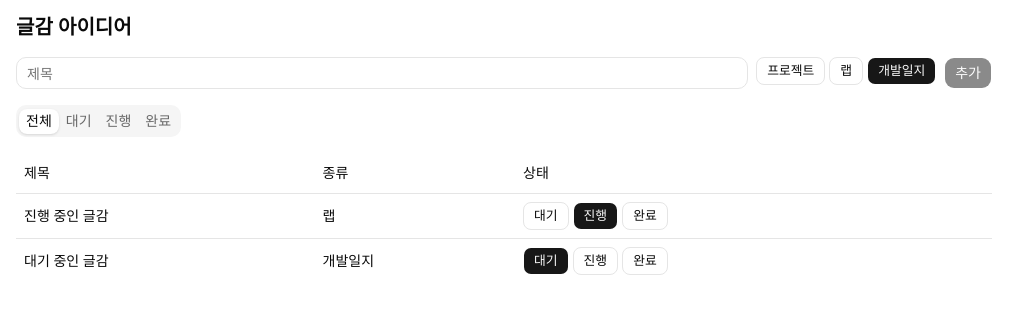
Test: IdeasPage 상태 변경 › 예외 › 상태 변경이 실패하면 표 위에 role="alert" 오류 문구가 보이고 목록의 기존 상태가 유지돼야 한다
This screenshot has width=1009, height=328.
Expected: the text "대기 중인 글감" is shown, [16,238,315,282]
Click the button "진행" in the row of "대기 중인 글감": click(595, 260) [573,246,618,274]
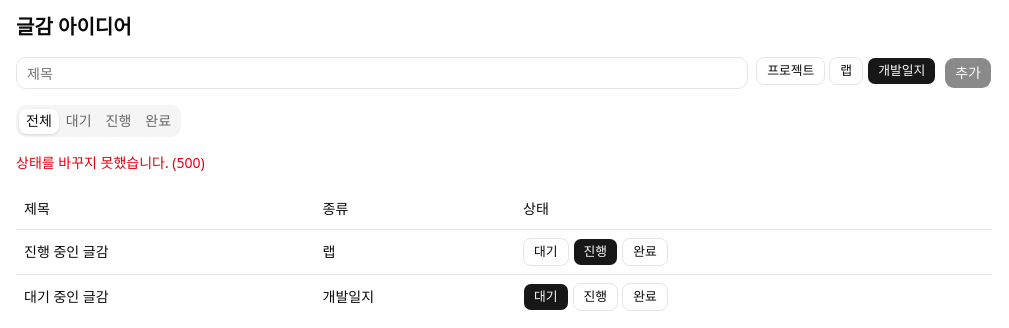
Now the message reads "상태를 바꾸지 못했습니다. (500)", box [16,153,205,172]
